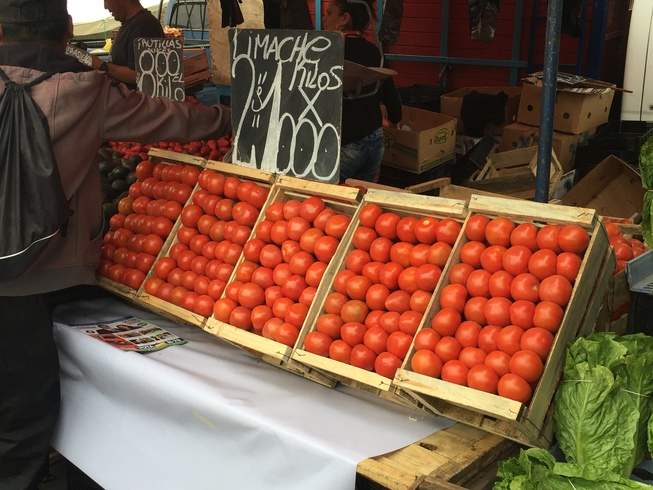precio: (228, 25, 346, 184), (133, 36, 187, 113)
